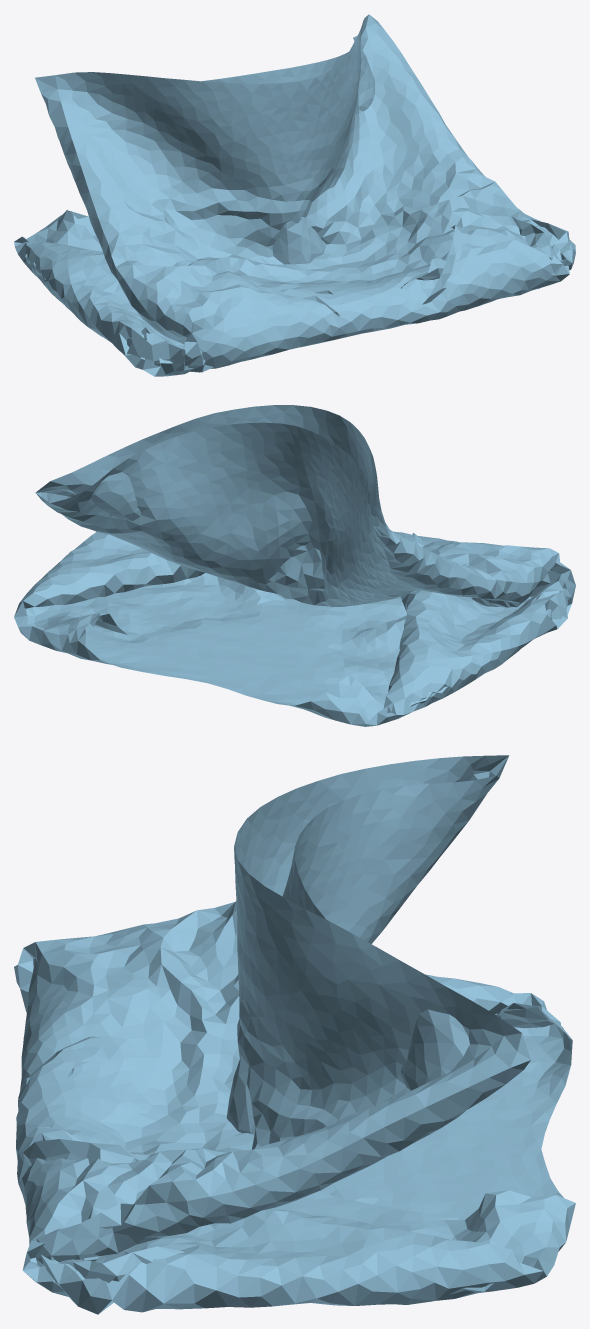
The model's file is frame_18.glb.
The picture shows the model from 3 angles, top to bottom: view 1: azimuth 30°, elevation 25°; view 2: azimuth 150°, elevation 25°; view 3: azimuth 270°, elevation 25°; orthographic projection. The views are drawn at different scales.
Parts seen in each view (by area): view 1: frame_18.obj; view 2: frame_18.obj; view 3: frame_18.obj.
Boxes of the visible parts, <box> form: frame_18.obj: <box>14,14,575,376</box>; frame_18.obj: <box>14,405,575,726</box>; frame_18.obj: <box>14,755,575,1314</box>.
Bounding box in the file's own units: 1.2 × 0.5511 × 0.8833.
